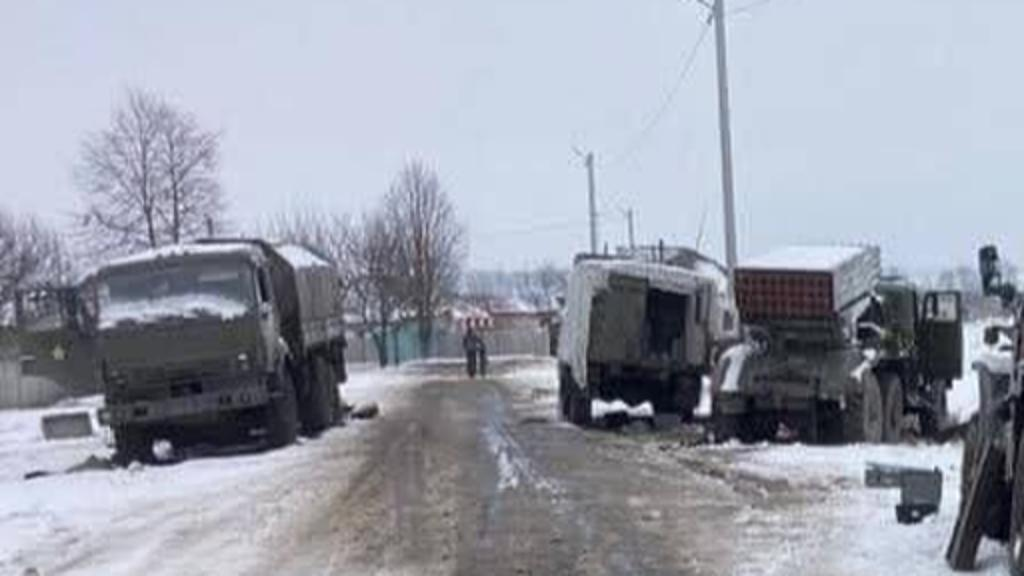MLRS: (706, 240, 962, 442)
TRUCK: (92, 238, 344, 468), (554, 242, 714, 426)
